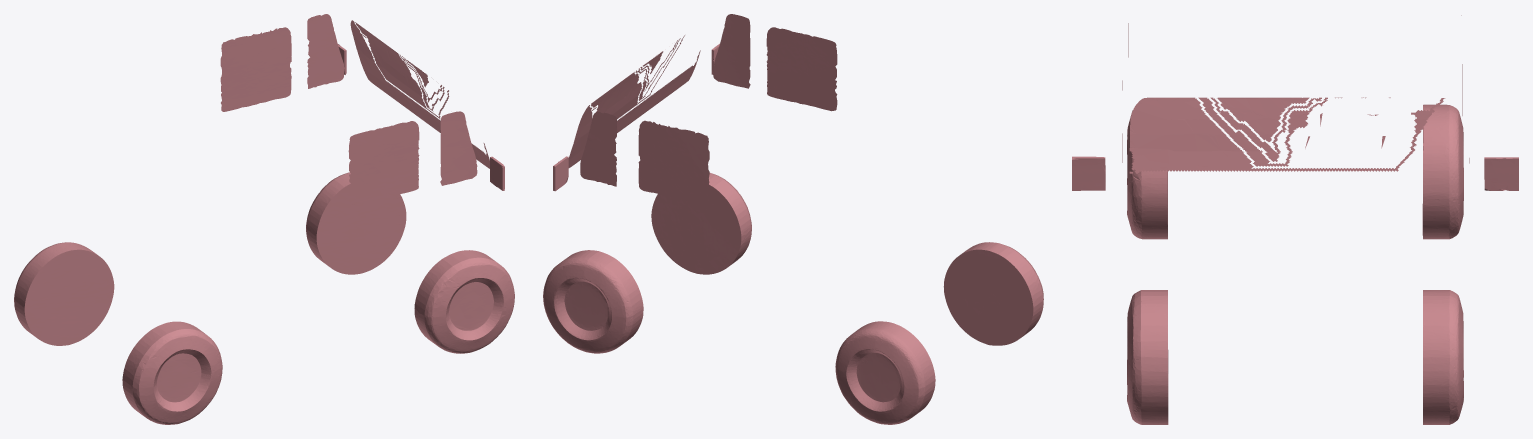
File: tk_volA.glb
The picture shows the model from 3 angles, left to right: view 1: azimuth 30°, elevation 25°; view 2: azimuth 150°, elevation 25°; view 3: azimuth 270°, elevation 25°; orthographic projection. The views are drawn at different scales.
Visible parts, largest first — view 1: part6, part1, part2, part5, part3, part4, part9, part8, part7; view 2: part5, part2, part1, part6, part3, part4, part9, part8, part7; view 3: part9, part6, part5, part1, part2, part10, part11.
Part boxes in pixels (x1=…): part6: x1=414, y1=250, x2=514, y2=353; part1: x1=14, y1=242, x2=114, y2=345; part2: x1=122, y1=321, x2=222, y2=424; part5: x1=306, y1=172, x2=406, y2=274; part3: x1=220, y1=27, x2=291, y2=111; part4: x1=348, y1=121, x2=419, y2=204; part9: x1=350, y1=20, x2=489, y2=168; part8: x1=440, y1=111, x2=477, y2=185; part7: x1=307, y1=14, x2=344, y2=88; part5: x1=543, y1=250, x2=643, y2=353; part2: x1=943, y1=242, x2=1043, y2=345; part1: x1=835, y1=321, x2=935, y2=424; part6: x1=651, y1=173, x2=751, y2=274; part3: x1=638, y1=120, x2=709, y2=205; part4: x1=766, y1=27, x2=837, y2=111; part9: x1=568, y1=35, x2=700, y2=167; part8: x1=713, y1=14, x2=750, y2=88; part7: x1=580, y1=111, x2=616, y2=186; part9: x1=1129, y1=97, x2=1445, y2=173; part6: x1=1127, y1=290, x2=1168, y2=424; part5: x1=1423, y1=290, x2=1463, y2=424; part1: x1=1422, y1=104, x2=1463, y2=239; part2: x1=1127, y1=110, x2=1167, y2=239; part10: x1=1484, y1=157, x2=1518, y2=190; part11: x1=1072, y1=156, x2=1105, y2=190.
Size of the model in its own units: 0.7437 by 0.4685 by 0.5783.
